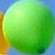Balloon: (2, 1, 55, 53)
